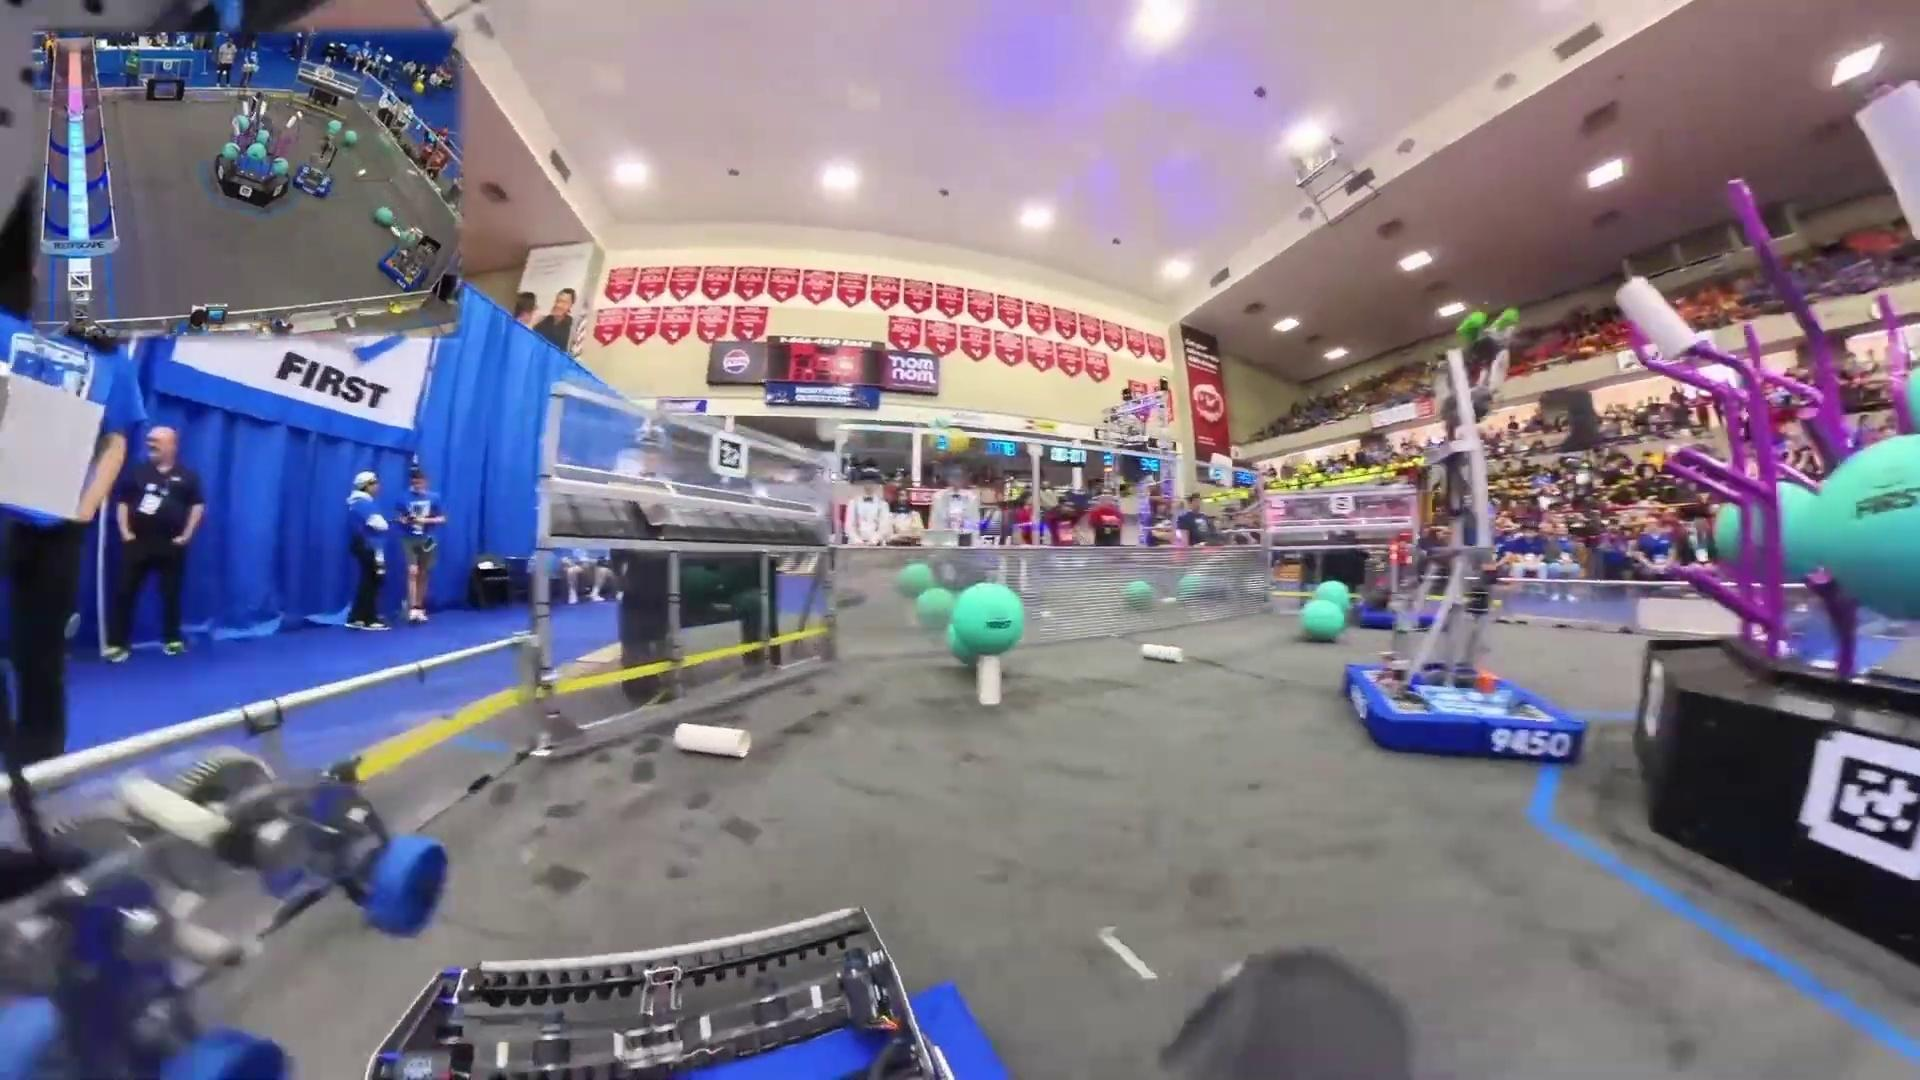robot: (1344, 578, 1589, 765), (377, 232, 433, 293), (294, 149, 338, 202)
